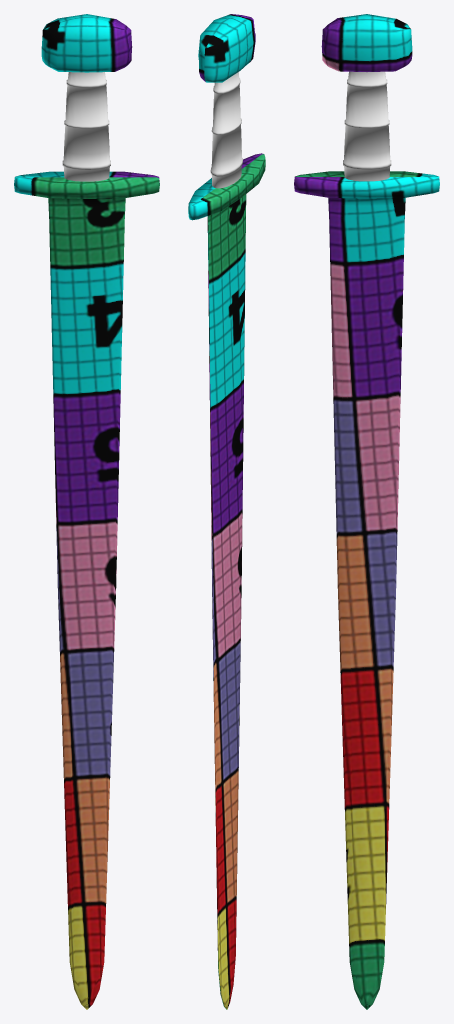
File: ulfberhtResto_low.fbx
3 views of the same model, side by side, from view 1: azimuth 90°, elevation 25°; view 2: azimuth 150°, elevation 25°; view 3: azimuth 270°, elevation 25° (orthographic).
Visible parts, largest first — view 1: sword_resto_low, handle_low; view 2: sword_resto_low, handle_low; view 3: sword_resto_low, handle_low.
Boxes of the visible parts, bbox=[...] form: sword_resto_low: bbox=[14, 14, 159, 1009]; handle_low: bbox=[62, 72, 110, 181]; sword_resto_low: bbox=[188, 14, 265, 1009]; handle_low: bbox=[210, 72, 242, 188]; sword_resto_low: bbox=[294, 14, 439, 1009]; handle_low: bbox=[343, 71, 391, 181].
Bounding box in the file's own units: 2.93 × 85.36 × 11.38.
